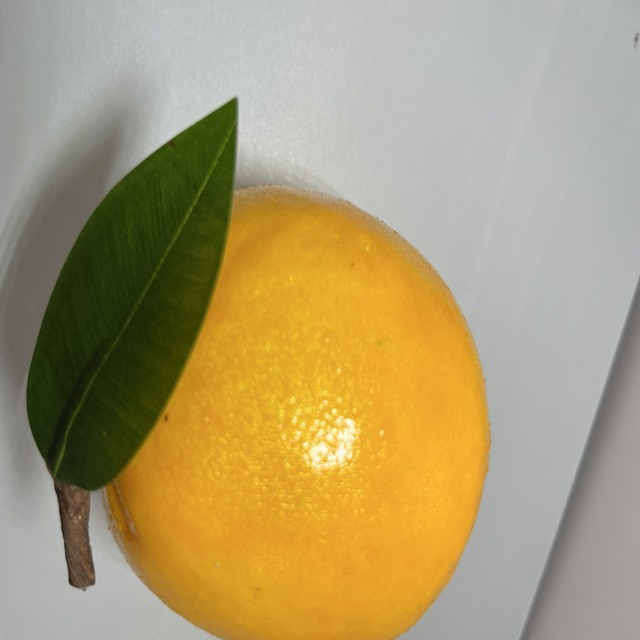Cam vang: (60, 167, 494, 640)
